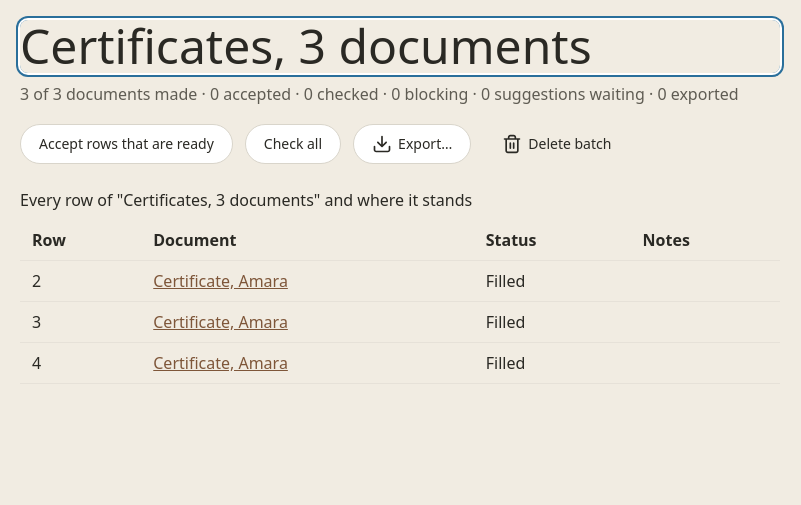
Test: BatchView › accepts rows that are ready and lists the ones left out in words
What coordinates should you click on to do the following:
click the button "Accept rows that are ready"
I would click on:
 (126, 144)
Its box is [20,124,233,164].
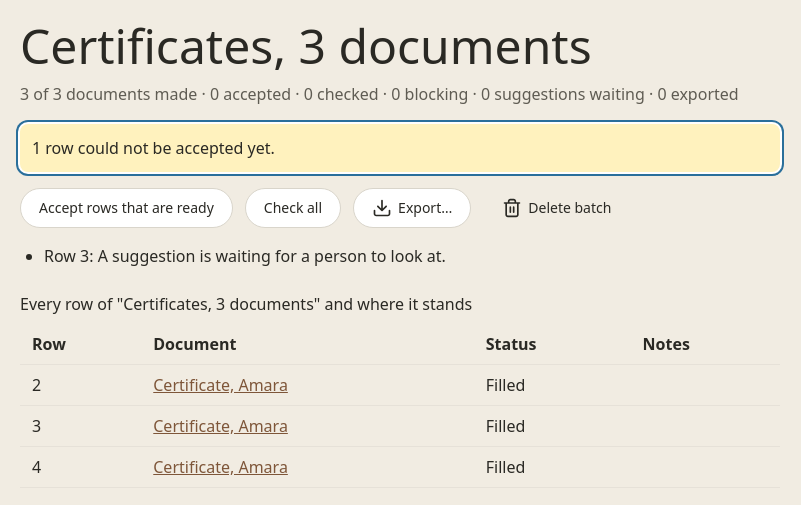
expect the text "1 row could not be accepted yet" is shown: met, box [32,137,275,159]
expect the text "suggestion is waiting" is shown: met, box [44,245,446,267]
